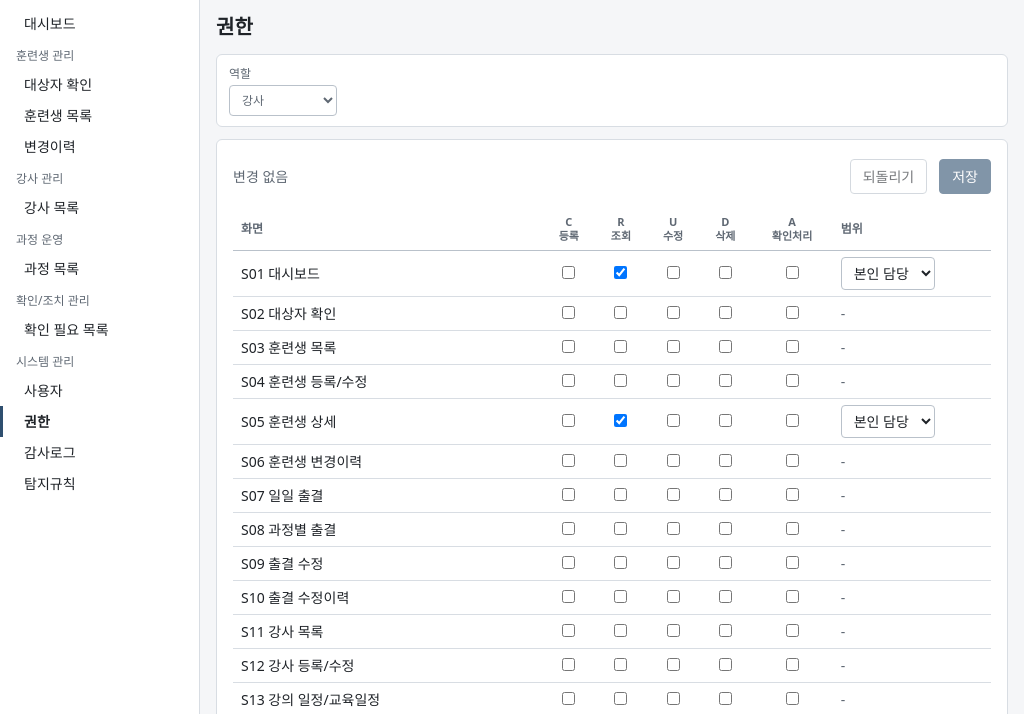
Test: S26 권한 › 역할별 매트릭스, 바꾼 칸만 표시하고 저장은 역할 전체 교체(범위 포함), 잠금 방지 409 안내
Expected: the dropdown named "S05 범위" shows "본인 담당", [841, 405, 935, 438]
Expected: the button "저장" is disabled, [939, 159, 991, 194]
Click the checkbox named "S05 조회".
click(621, 420)  # box [614, 414, 627, 427]
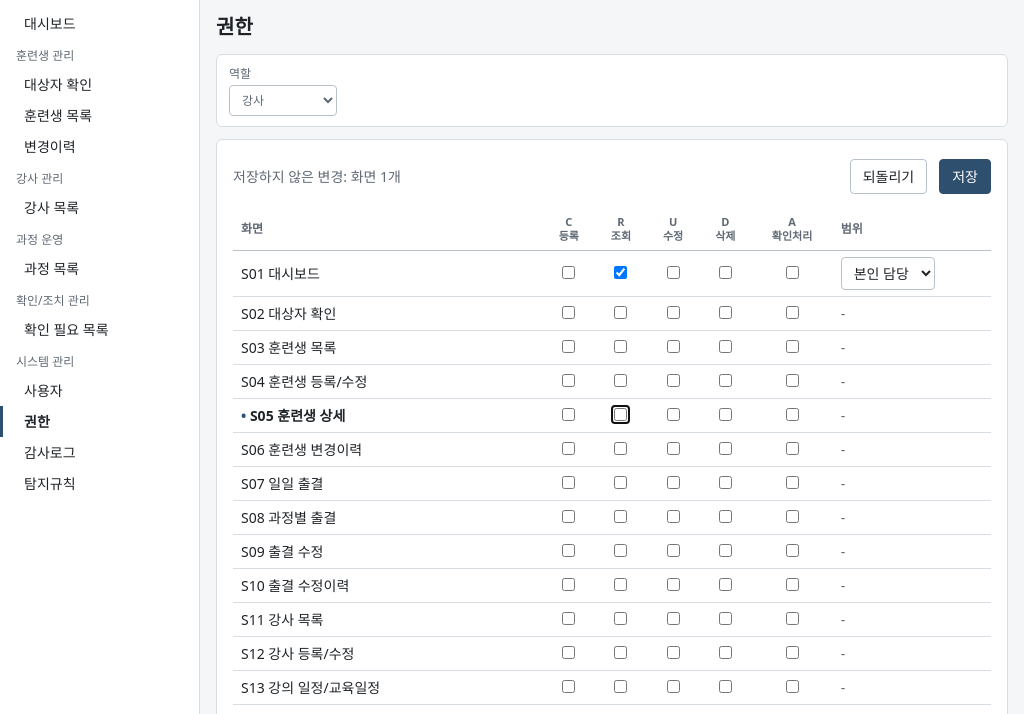
Click the checkbox named "S03 조회".
click(621, 346)  # box [614, 340, 627, 353]
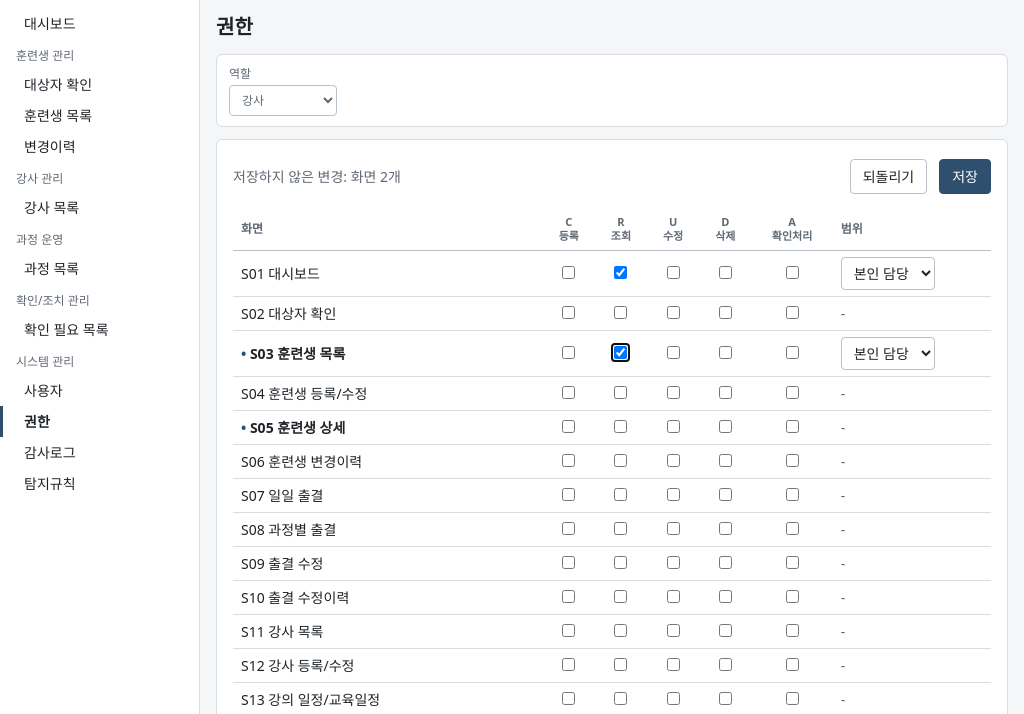
Now the text "저장하지 않은 변경: 화면 2개" is shown, box [233, 166, 401, 187]
Click the button "저장".
click(965, 176)  # box [939, 159, 991, 194]
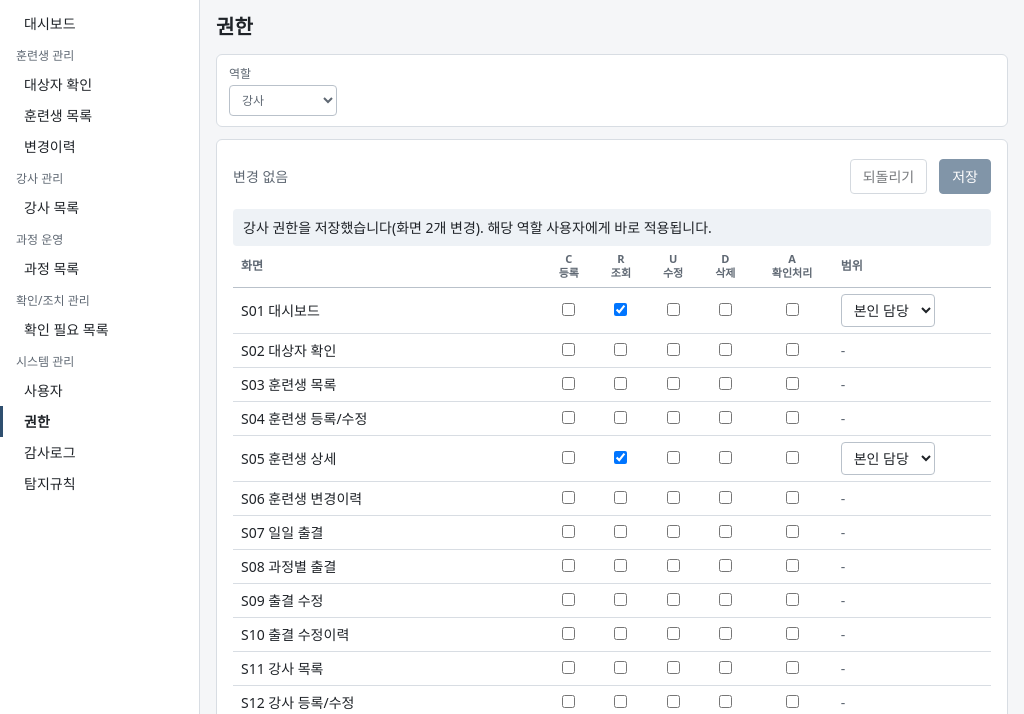
Now the text "강사 권한을 저장했습니다(화면 2개 변경). 해당 역할 사용자에게 바로 적용됩니다." is shown, box [233, 209, 991, 246]
Select "시스템 관리자" in the dropdown labelled "역할" at (283, 100), box [229, 85, 337, 116]
(page scrolled)
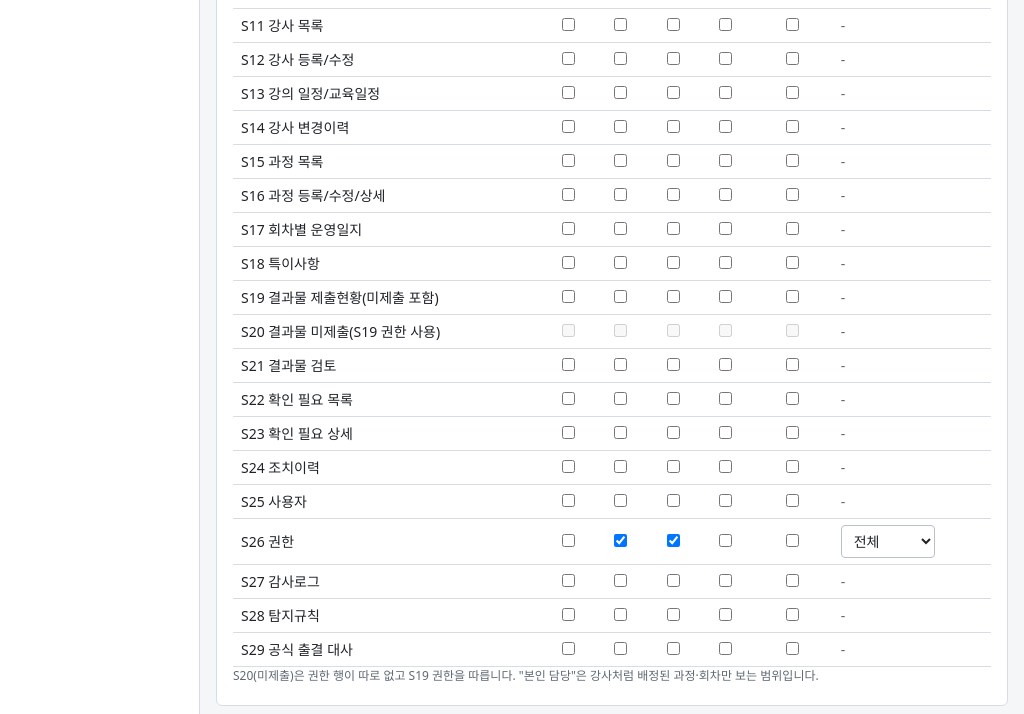
Click the checkbox named "S26 수정".
click(673, 540)  # box [667, 534, 680, 547]
(page scrolled)
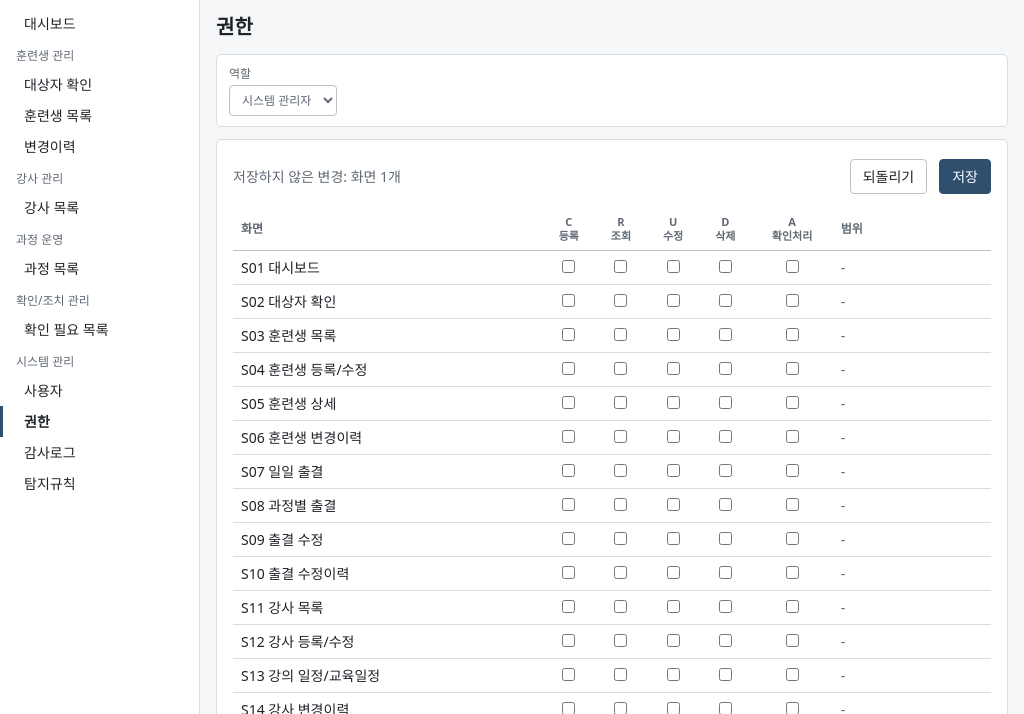
Click the button "저장".
click(965, 176)  # box [939, 159, 991, 194]
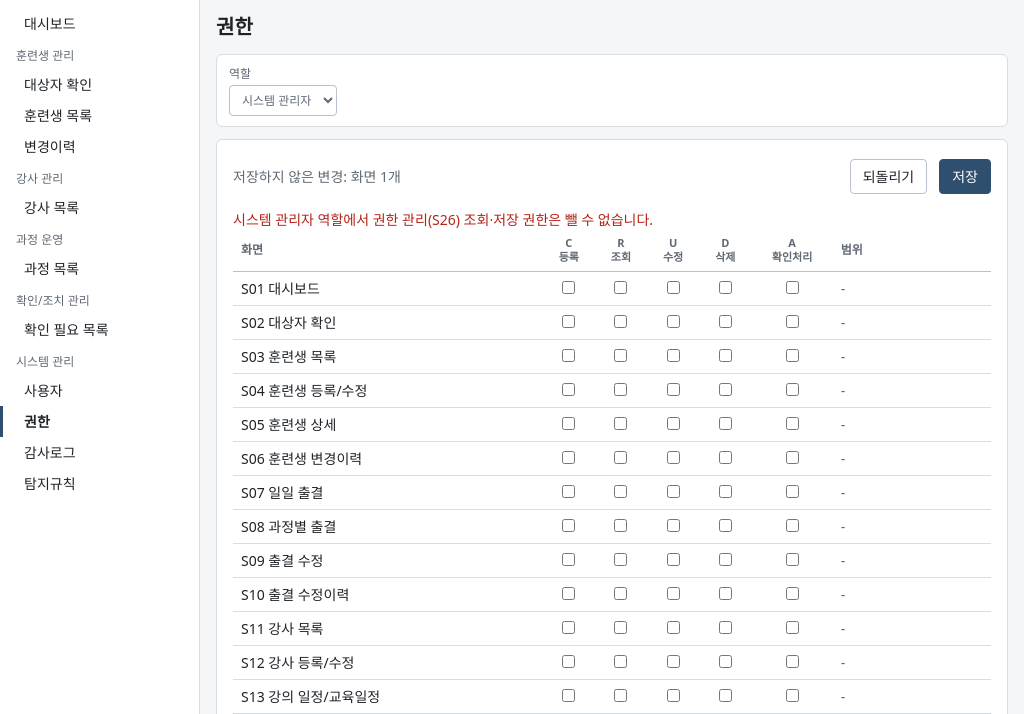
Now the message shows "권한 관리(S26) 조회·저장 권한은 뺄 수 없습니다", box [233, 210, 653, 229]
